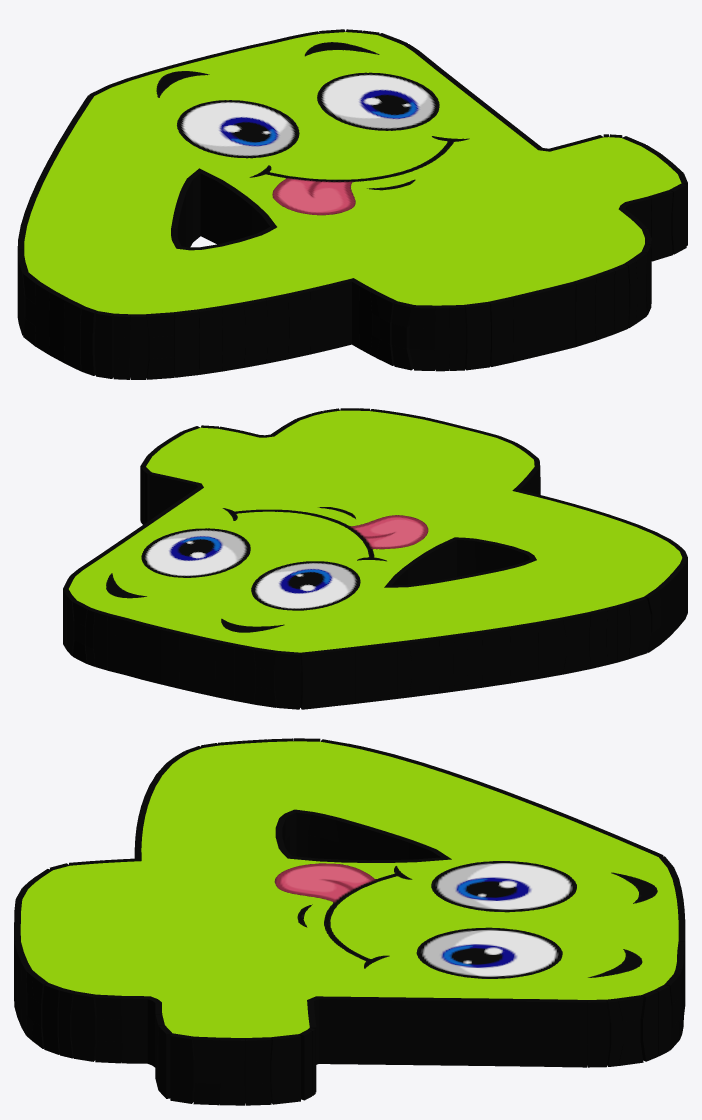
The model's file is number 4 .fbx.
3 views of the same model, one above another, from view 1: azimuth 30°, elevation 25°; view 2: azimuth 150°, elevation 25°; view 3: azimuth 270°, elevation 25° (orthographic). The views are drawn at different scales.
Parts seen in each view (by area): view 1: Text.018; view 2: Text.018; view 3: Text.018.
Boxes of the visible parts, left/top/right/bottom form: Text.018: left=17, top=29, right=687, bottom=379; Text.018: left=63, top=408, right=687, bottom=709; Text.018: left=14, top=738, right=685, bottom=1105.
Size of the model in its own units: 64.11 by 6.92 by 60.37.
3 materials, 1 textured.
